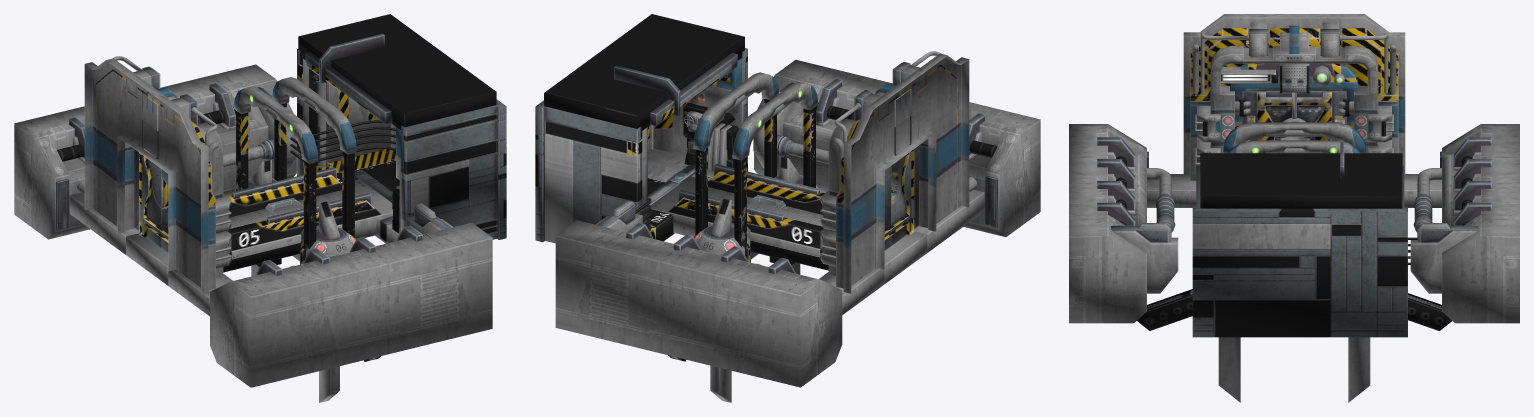
Rendered from unreal_vr_room_01.glb.
3 views of the same model, side by side, from view 1: azimuth 30°, elevation 25°; view 2: azimuth 150°, elevation 25°; view 3: azimuth 270°, elevation 25° (orthographic). The views are drawn at different scales.
Parts seen in each view (by area): view 1: mur_encadrement_low, porte_09_low, plafond_low, mur_piece_low, pont_arche_low, pont_rambarde_low, sol_low, pont_low, props_tuyau_02_low, mur_bottom_low, porte_01_low, props_array_low (+5 smaller); view 2: mur_encadrement_low, porte_09_low, plafond_low, mur_piece_low, pont_arche_low, pont_rambarde_low, pont_low, sol_low, mur_front_low, porte_01_low, props_array_low, porte_10_low (+8 smaller); view 3: mur_piece_low, mur_encadrement_low, porte_09_low, plafond_low, pont_arche_low, mur_encadrement_01_low, props_array_low, porte_10_low, porte_03_low, porte_05_low, tuyau_encadrement_low, porte_02_low (+5 smaller).
Boxes of the visible parts, x1,y1,x2,y2 form: mur_encadrement_low: [14, 64, 492, 387]; porte_09_low: [84, 58, 223, 295]; plafond_low: [298, 14, 496, 129]; mur_piece_low: [297, 49, 506, 239]; pont_arche_low: [233, 77, 380, 402]; pont_rambarde_low: [226, 167, 381, 251]; sol_low: [69, 149, 399, 316]; pont_low: [126, 179, 392, 285]; props_tuyau_02_low: [57, 33, 395, 161]; mur_bottom_low: [303, 59, 390, 165]; porte_01_low: [134, 149, 168, 252]; props_array_low: [69, 83, 422, 275]; mur_encadrement_low: [555, 59, 1040, 387]; porte_09_low: [828, 53, 969, 293]; plafond_low: [544, 14, 744, 130]; mur_piece_low: [535, 48, 747, 243]; pont_arche_low: [668, 72, 818, 402]; pont_rambarde_low: [668, 164, 825, 249]; pont_low: [647, 176, 927, 283]; sol_low: [647, 148, 984, 314]; mur_front_low: [653, 58, 741, 165]; porte_01_low: [884, 146, 918, 250]; props_array_low: [626, 78, 985, 273]; porte_10_low: [833, 51, 940, 240]; mur_piece_low: [1192, 165, 1407, 337]; mur_encadrement_low: [1069, 124, 1519, 323]; porte_09_low: [1183, 14, 1405, 180]; plafond_low: [1200, 153, 1402, 208]; pont_arche_low: [1137, 122, 1451, 402]; mur_encadrement_01_low: [1111, 223, 1477, 293]; props_array_low: [1097, 137, 1491, 225]; porte_10_low: [1192, 22, 1396, 140]; porte_03_low: [1195, 66, 1393, 165]; porte_05_low: [1277, 25, 1344, 139]; tuyau_encadrement_low: [1147, 168, 1441, 237]; porte_02_low: [1230, 63, 1358, 127].
Size of what is drawn, in the model's own units: 0.371 by 0.3663 by 0.4742.
9 materials, 9 textured.
